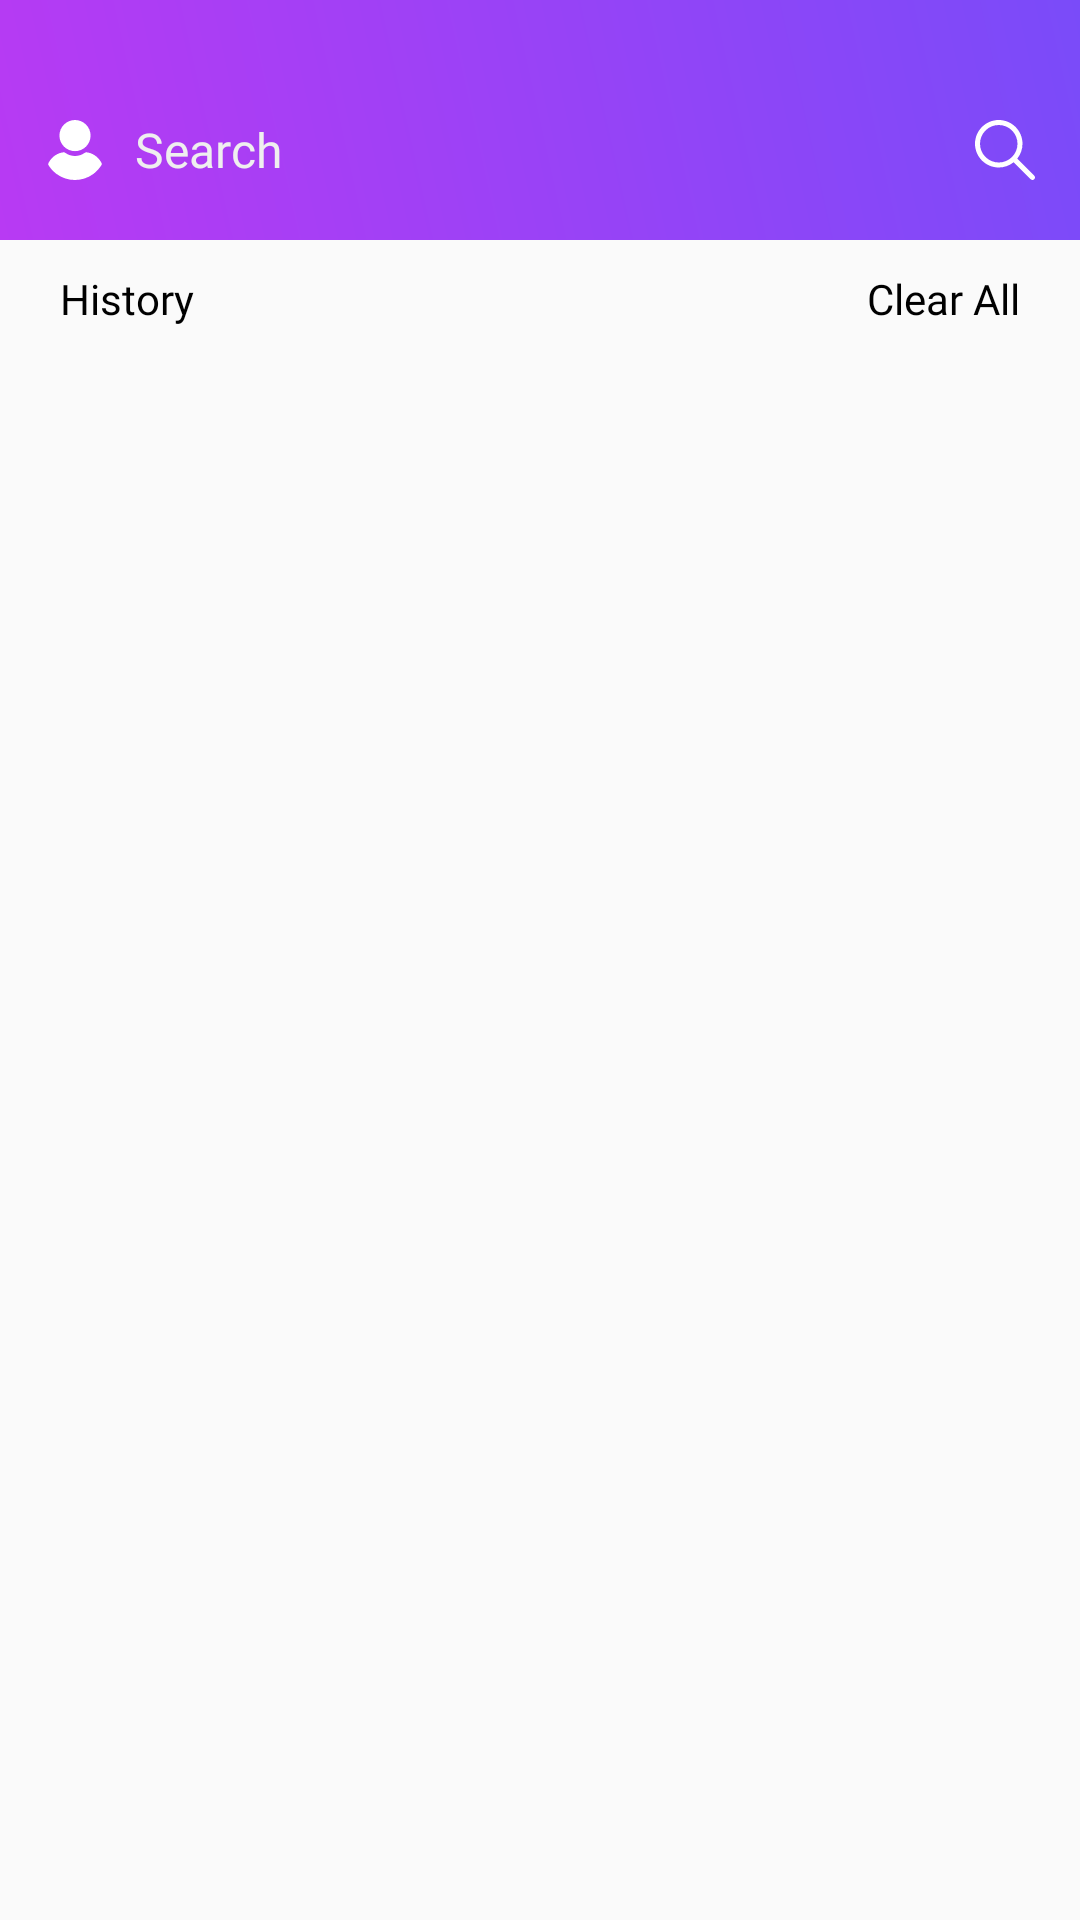

Locate icon controls on the screen. Image size 1080 × 1920, boxes as (x1, y1, x2, y2).
loupe: (975, 120, 1035, 180)
user: (48, 120, 102, 180)
